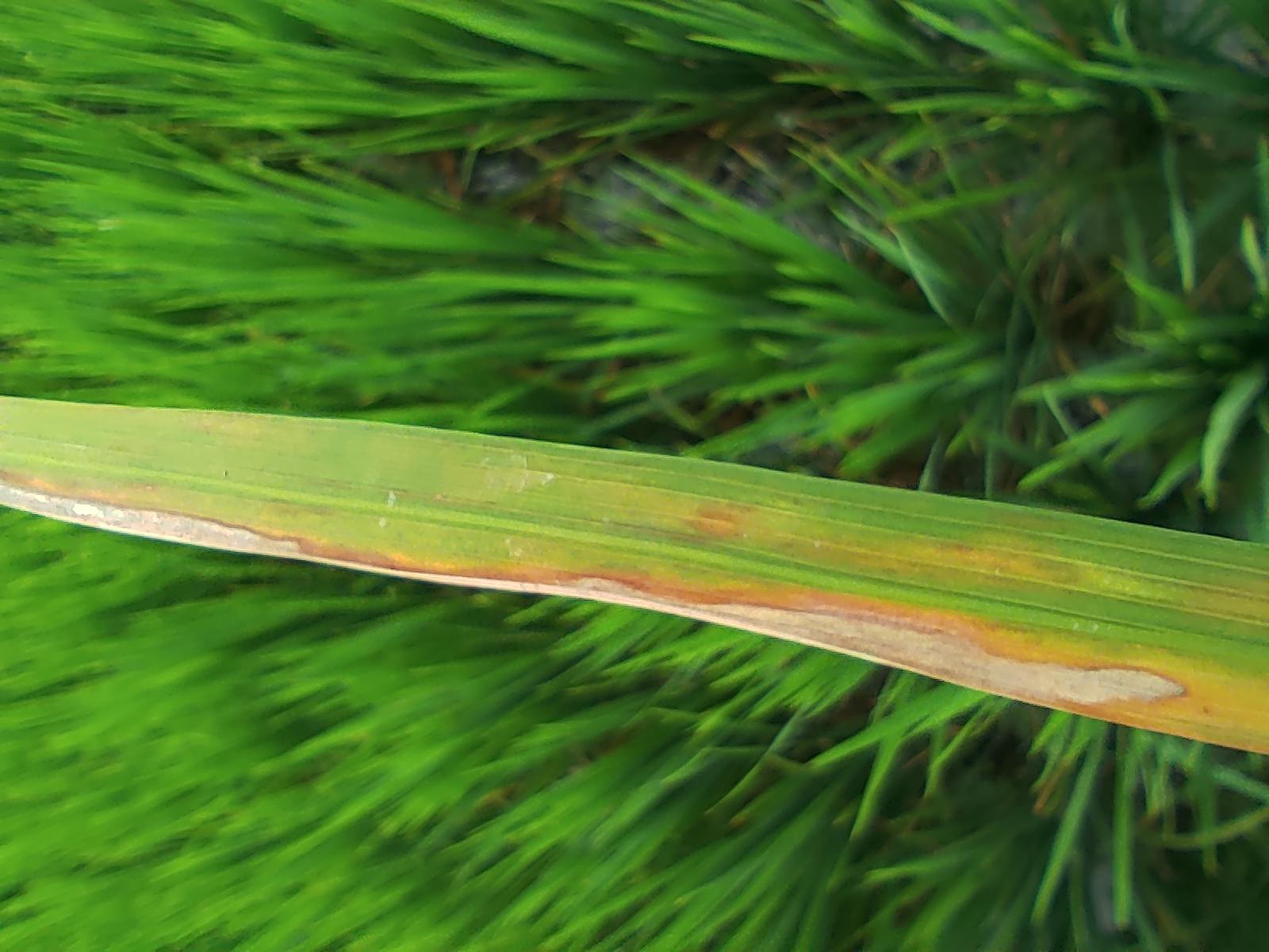BLB: (327, 0, 629, 891)
LEAF: (265, 0, 740, 951)
